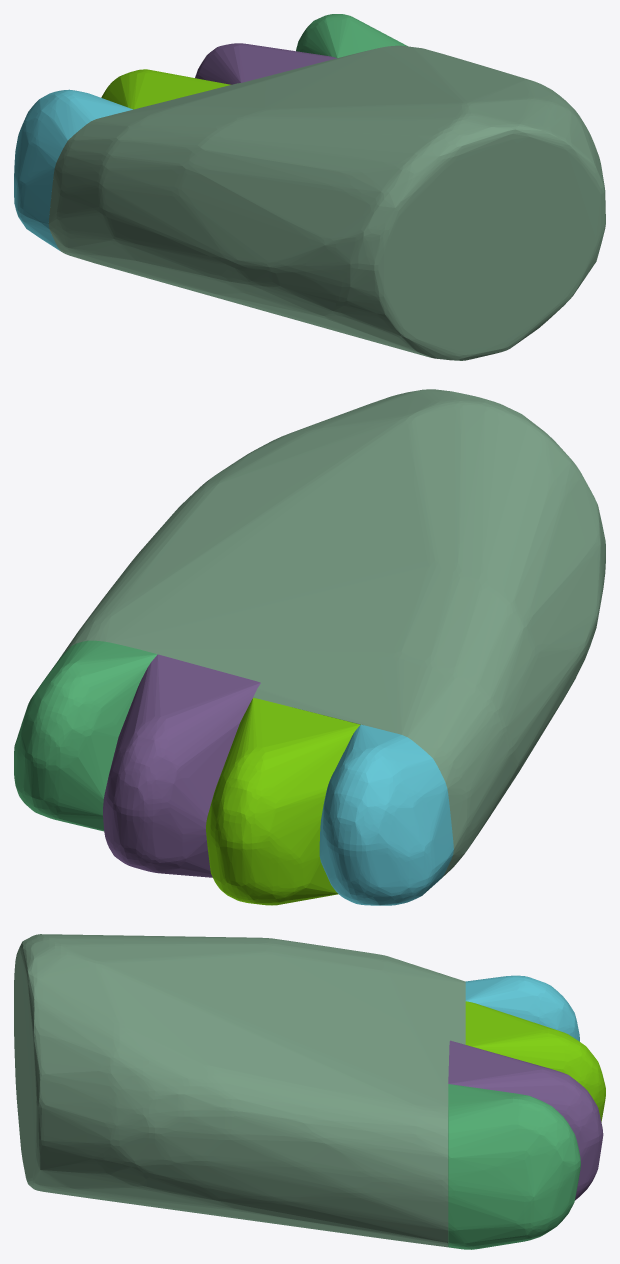
File: FB_palm_ref.obj
3 views of the same model, one above another, from view 1: azimuth 30°, elevation 25°; view 2: azimuth 150°, elevation 25°; view 3: azimuth 270°, elevation 25° (orthographic). The views are drawn at different scales.
Parts seen in each view (by area): view 1: geometry_0, geometry_2, geometry_1, geometry_3, geometry_4; view 2: geometry_0, geometry_1, geometry_4, geometry_2, geometry_3; view 3: geometry_0, geometry_3, geometry_1, geometry_4, geometry_2.
Part boxes in pixels (box(x1,y1,x2,y2)): geometry_0: box(48, 45, 605, 360); geometry_2: box(14, 89, 132, 250); geometry_1: box(195, 43, 336, 84); geometry_3: box(296, 14, 407, 58); geometry_4: box(101, 69, 230, 109); geometry_0: box(60, 389, 605, 878); geometry_1: box(103, 654, 260, 877); geometry_4: box(206, 697, 360, 905); geometry_2: box(319, 724, 453, 905); geometry_3: box(14, 640, 157, 831); geometry_0: box(14, 934, 465, 1247); geometry_3: box(448, 1084, 580, 1249); geometry_1: box(448, 1040, 603, 1200); geometry_4: box(465, 1001, 605, 1121); geometry_2: box(465, 975, 579, 1041).
Size of the model in its own units: 0.0838 by 0.0552 by 0.1127.
